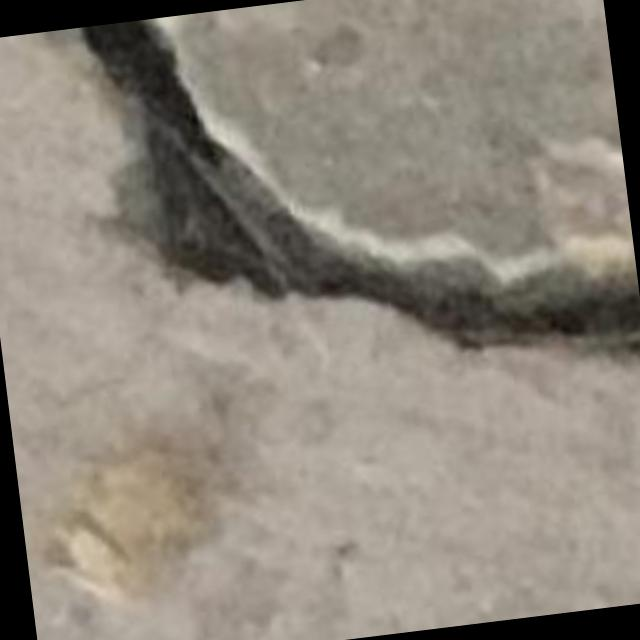crack: (81, 20, 639, 358)
